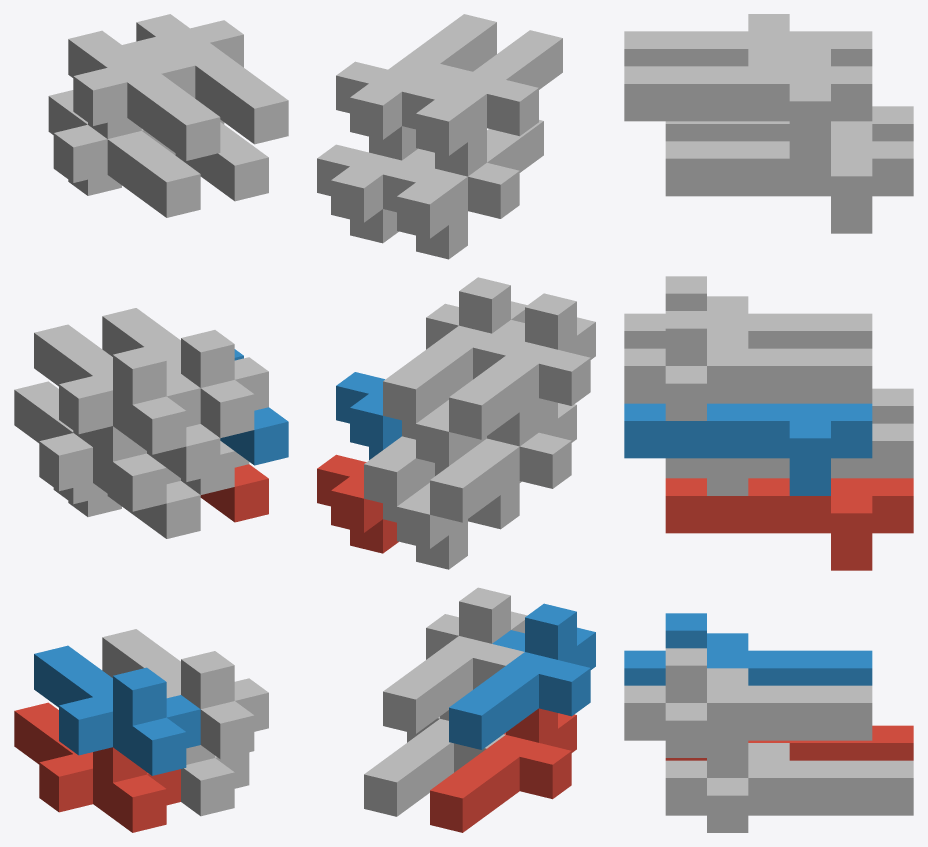
File: tiling.obj
The picture shows the model from 3 angles, left to right: view 1: azimuth 30°, elevation 25°; view 2: azimuth 150°, elevation 25°; view 3: azimuth 270°, elevation 25°; orthographic projection. The views are drawn at different scales.
Visible parts, largest first — view 1: copy_1_domain_2, copy_1_domain_4, copy_2_domain_4, copy_1_domain_1, copy_2_domain_8, copy_2_domain_3, copy_1_domain_3, copy_1_domain_6, copy_1_domain_8, copy_2_domain_1, copy_2_domain_7, copy_1_domain_5 (+4 smaller); view 2: copy_2_domain_4, copy_1_domain_4, copy_1_domain_2, copy_2_domain_3, copy_1_domain_6, copy_1_domain_8, copy_1_domain_1, copy_2_domain_8, copy_1_domain_3, copy_1_domain_5, copy_2_domain_7, copy_2_domain_1 (+4 smaller); view 3: copy_1_domain_6, copy_1_domain_8, copy_2_domain_8, copy_1_domain_5, copy_2_domain_7, copy_2_domain_6, copy_2_domain_5, copy_1_domain_2, copy_2_domain_4, copy_1_domain_4, copy_1_domain_7, copy_2_domain_3 (+2 smaller).
Boxes of the visible parts, x1,y1,x2,y2 form: copy_1_domain_2: [34, 645, 200, 775]; copy_1_domain_4: [34, 324, 200, 454]; copy_2_domain_4: [68, 30, 220, 160]; copy_1_domain_1: [14, 702, 180, 832]; copy_2_domain_8: [136, 14, 288, 144]; copy_2_domain_3: [48, 90, 200, 217]; copy_1_domain_3: [14, 381, 180, 511]; copy_1_domain_6: [102, 629, 268, 759]; copy_1_domain_8: [102, 308, 268, 437]; copy_2_domain_1: [53, 481, 200, 538]; copy_2_domain_7: [141, 119, 268, 201]; copy_1_domain_5: [181, 745, 249, 816]; copy_2_domain_4: [402, 30, 562, 176]; copy_1_domain_4: [449, 293, 595, 439]; copy_1_domain_2: [449, 603, 595, 749]; copy_2_domain_3: [383, 120, 543, 259]; copy_1_domain_6: [383, 587, 527, 733]; copy_1_domain_8: [383, 277, 527, 423]; copy_1_domain_1: [430, 708, 576, 832]; copy_2_domain_8: [336, 14, 496, 160]; copy_1_domain_3: [430, 398, 576, 522]; copy_1_domain_5: [364, 710, 505, 816]; copy_2_domain_7: [317, 144, 434, 243]; copy_2_domain_1: [383, 481, 521, 569]; copy_1_domain_6: [624, 648, 872, 757]; copy_1_domain_8: [624, 311, 872, 420]; copy_2_domain_8: [624, 49, 872, 158]; copy_1_domain_5: [665, 740, 913, 832]; copy_2_domain_7: [665, 141, 913, 233]; copy_2_domain_6: [624, 403, 872, 495]; copy_2_domain_5: [665, 478, 913, 570]; copy_1_domain_2: [624, 613, 872, 685]; copy_2_domain_4: [624, 14, 872, 66]; copy_1_domain_4: [624, 276, 872, 348]; copy_1_domain_7: [665, 423, 913, 495]; copy_2_domain_3: [665, 106, 913, 141].
Bounding box in the file's own units: 6 × 20 × 7.
